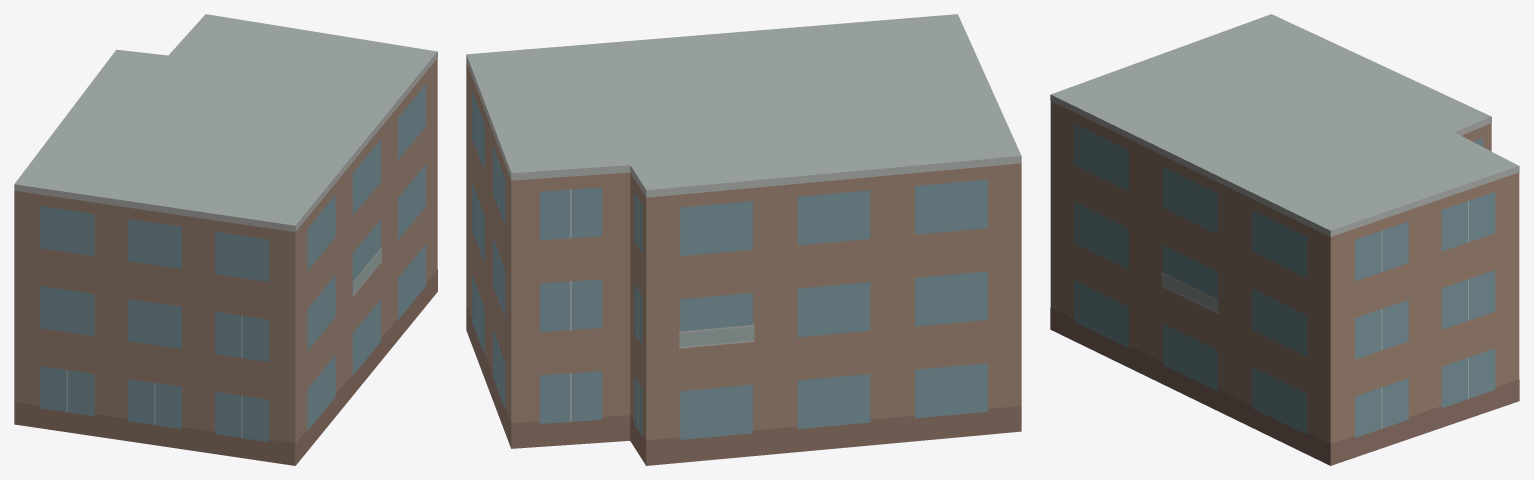
Rendered from survey-upis-32646867.glb.
The picture shows the model from 3 angles, left to right: view 1: azimuth 30°, elevation 25°; view 2: azimuth 150°, elevation 25°; view 3: azimuth 270°, elevation 25°; orthographic projection. The views are drawn at different scales.
Parts seen in each view (by area): view 1: survey-upis-32646867.tmp; view 2: survey-upis-32646867.tmp; view 3: survey-upis-32646867.tmp.
Boxes of the visible parts, x1=… form: survey-upis-32646867.tmp: x1=14, y1=14, x2=437, y2=465; survey-upis-32646867.tmp: x1=466, y1=14, x2=1021, y2=465; survey-upis-32646867.tmp: x1=1050, y1=14, x2=1519, y2=465.
Size of the model in its own units: 18 by 9.1 by 16.46.
